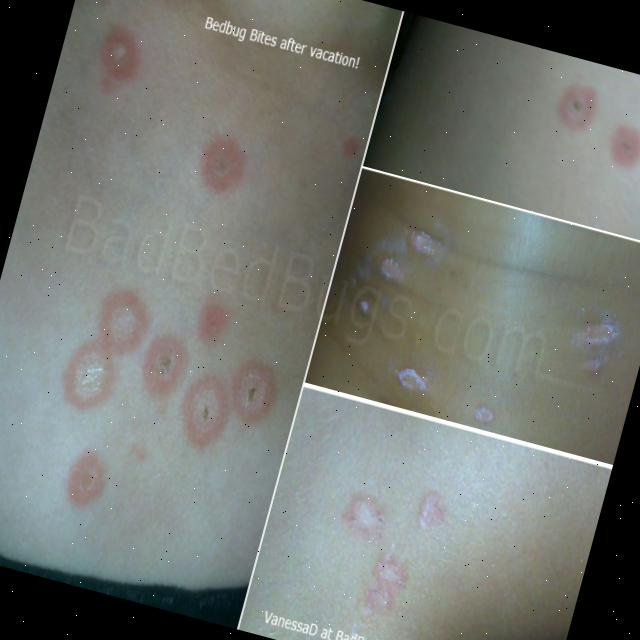kan emici bocekler: (51, 327, 128, 422), (558, 294, 637, 386), (169, 364, 243, 456), (86, 279, 159, 364), (352, 541, 422, 627), (131, 324, 200, 410), (219, 349, 287, 435), (87, 19, 151, 107), (54, 437, 118, 522), (190, 125, 257, 203), (333, 483, 399, 548), (547, 73, 604, 142), (187, 295, 235, 352), (381, 354, 440, 399), (398, 217, 452, 266), (409, 482, 456, 537), (601, 117, 640, 173), (375, 250, 413, 286), (469, 398, 501, 429)
